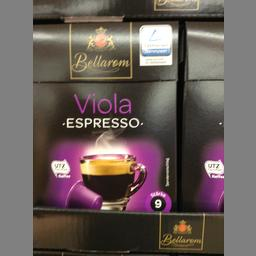coffee: (32, 22, 179, 212)
